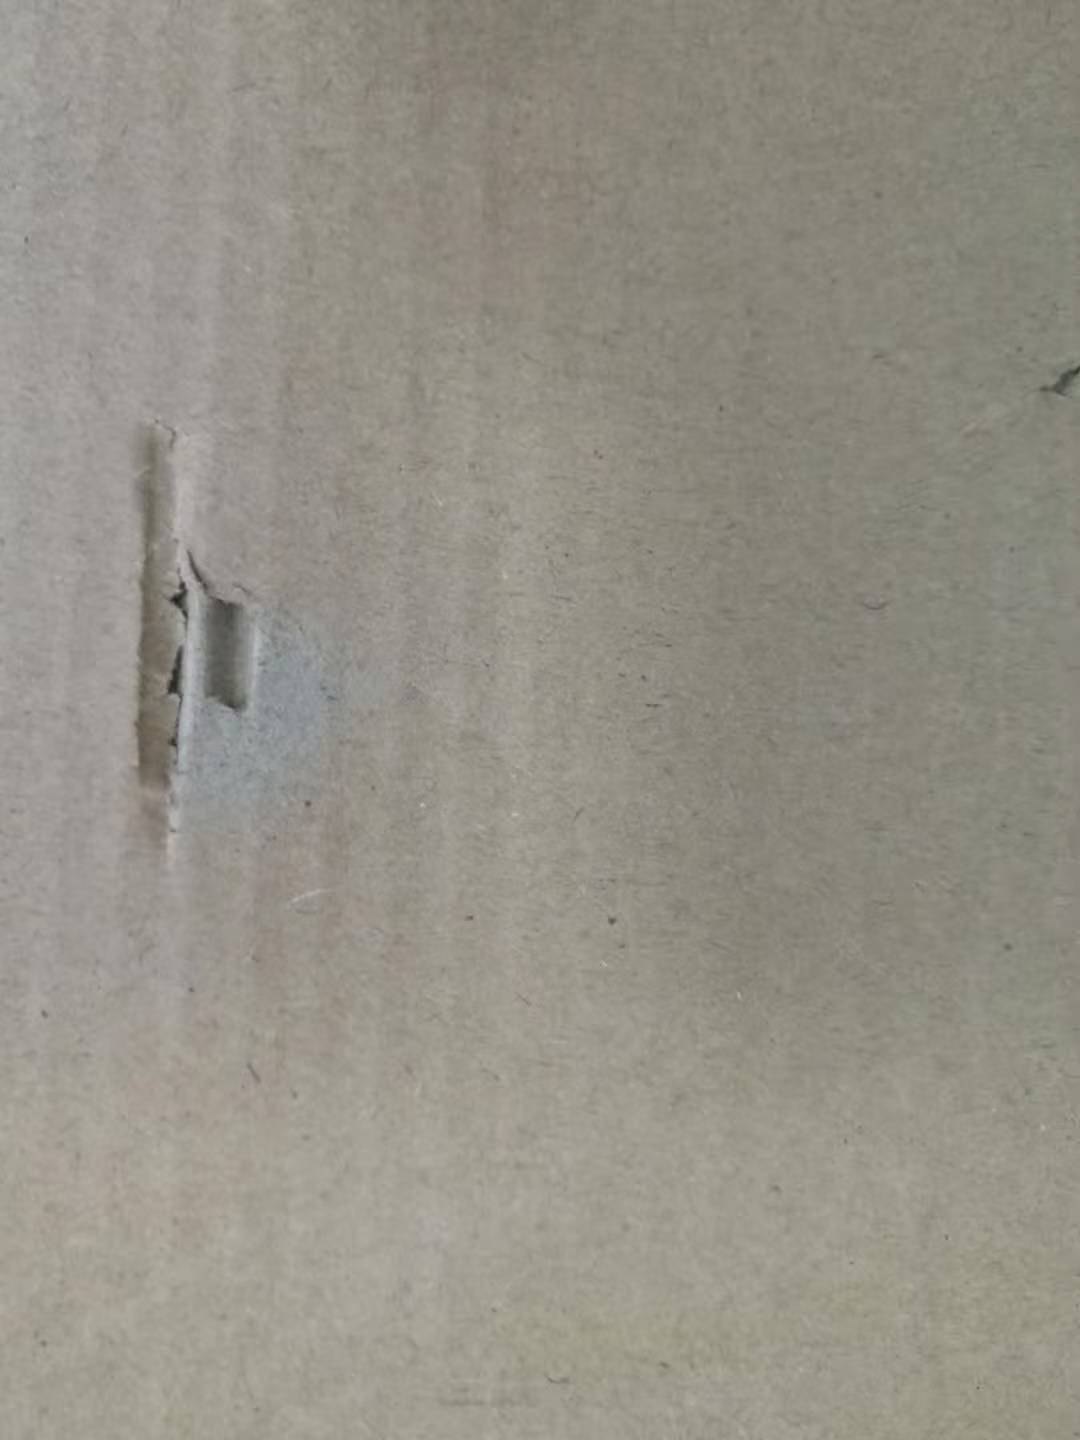defect: (83, 373, 374, 913), (1011, 344, 1080, 426)
